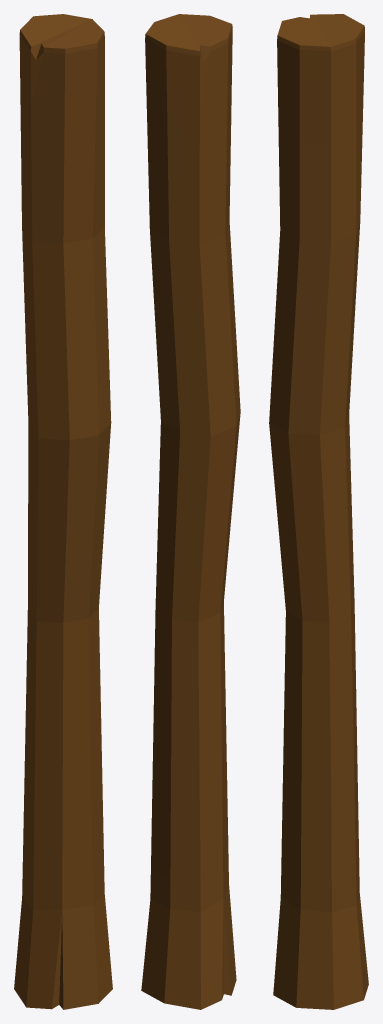
File: Beach_House_Support_Pole_01.fbx
3 views of the same model, side by side, from view 1: azimuth 90°, elevation 25°; view 2: azimuth 150°, elevation 25°; view 3: azimuth 330°, elevation 25° (orthographic).
Visible parts, largest first — view 1: Beach_House_Support_Pole_01; view 2: Beach_House_Support_Pole_01; view 3: Beach_House_Support_Pole_01.
Part boxes in pixels (x1,y1,x2,y2): Beach_House_Support_Pole_01: [14, 14, 112, 1009]; Beach_House_Support_Pole_01: [141, 14, 240, 1009]; Beach_House_Support_Pole_01: [269, 14, 368, 1009].
Size of the model in its own units: 0.8247 by 8.67 by 0.808.
